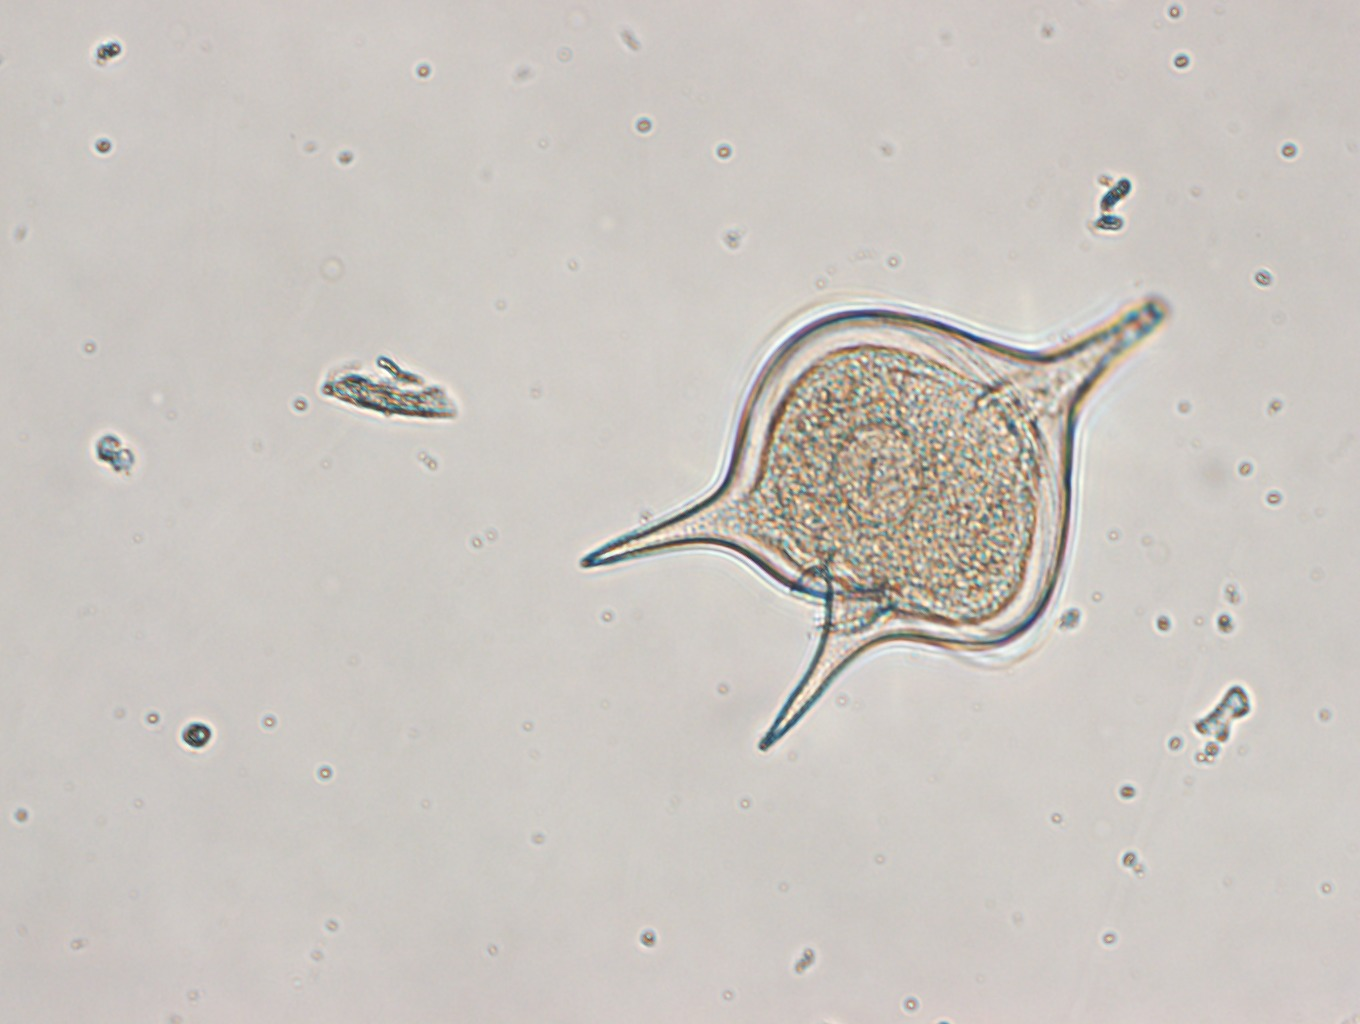protoperidinium: (582, 294, 1171, 750)
